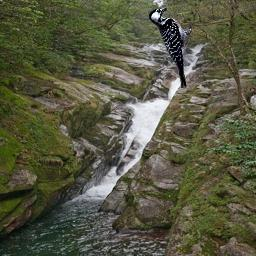Woodpecker: (148, 5, 191, 88)
